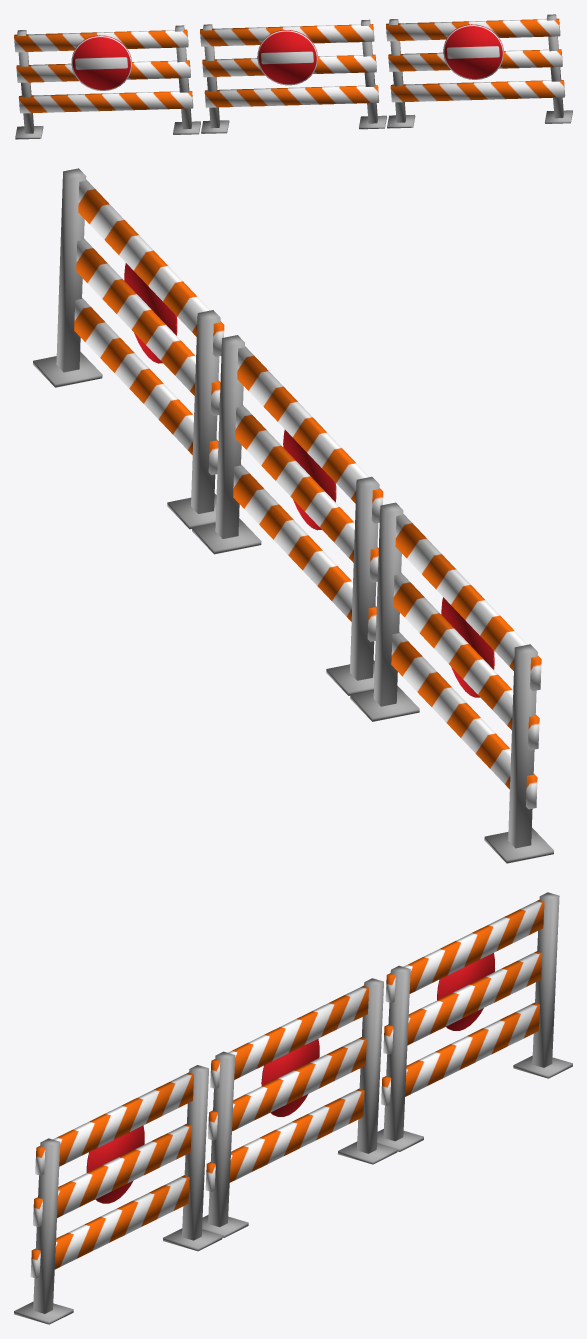
The model's file is road_close3.glb.
3 renders of one model, top to bottom at view 1: azimuth 30°, elevation 25°; view 2: azimuth 150°, elevation 25°; view 3: azimuth 270°, elevation 25°, orthographic. The views are drawn at different scales.
Parts seen in each view (by area): view 1: s1.jpg__, s3.png__; view 2: s1.jpg__, s3.png__; view 3: s1.jpg__, s3.png__.
Part boxes in pixels (x1,y1,x2,y2): s1.jpg__: (14, 14, 572, 139); s3.png__: (71, 24, 503, 90); s1.jpg__: (33, 168, 553, 863); s3.png__: (124, 263, 494, 697); s1.jpg__: (14, 892, 572, 1324); s3.png__: (86, 953, 495, 1203).
Size of the model in its own units: 5.17 by 1.66 by 3.72.
Materials: 2 (2 with a texture image).
